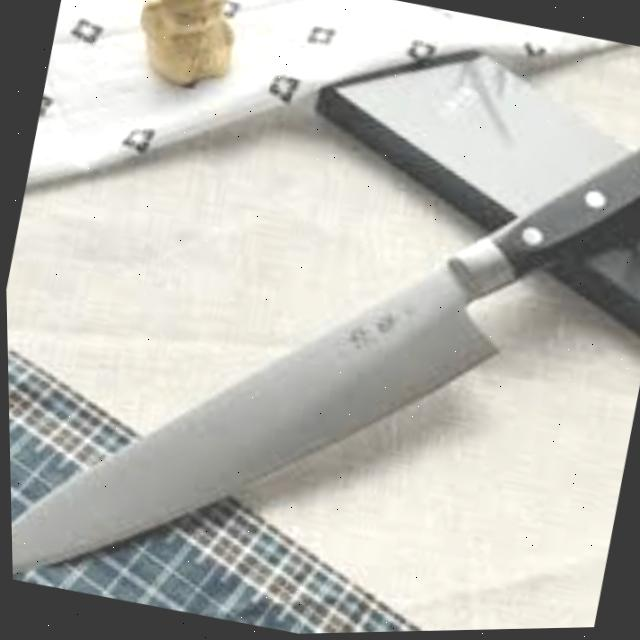knife: (0, 10, 640, 640)
